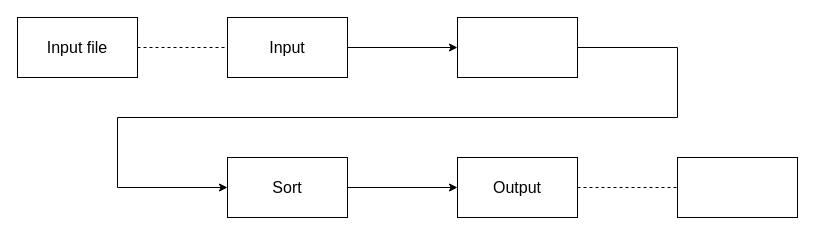
Image size: 815x235. Some labels were removed from this diagram. The shapes that lost their labels are listed below. From the top down, each one's centre as x and y in pixels, then its label:
[517,47]: Circular shifts
[737,187]: Output file
